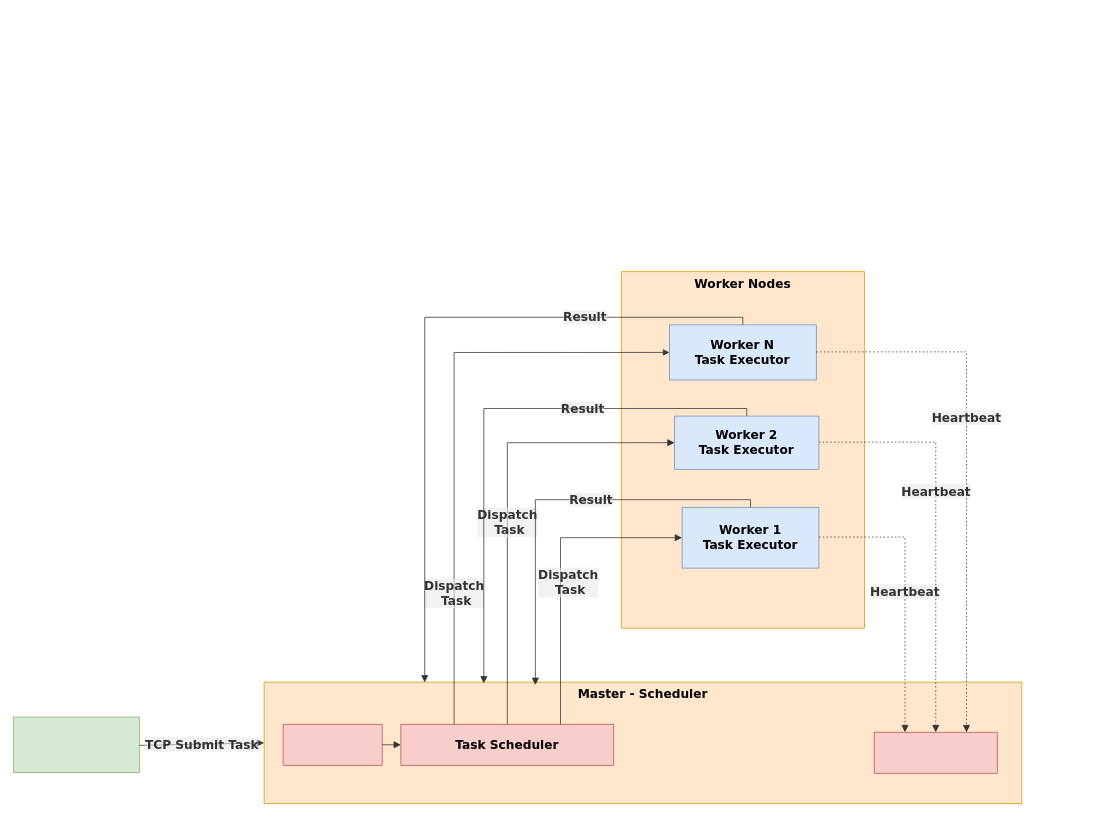
This 1106x831 diagram has some shape labels left out. Here are the shapes that lost their labels. From the top down, the centre of each, then its label:
the point at 76,744: Client Task Submitter
the point at 332,744: Task Queue
the point at 935,752: Worker Manager
